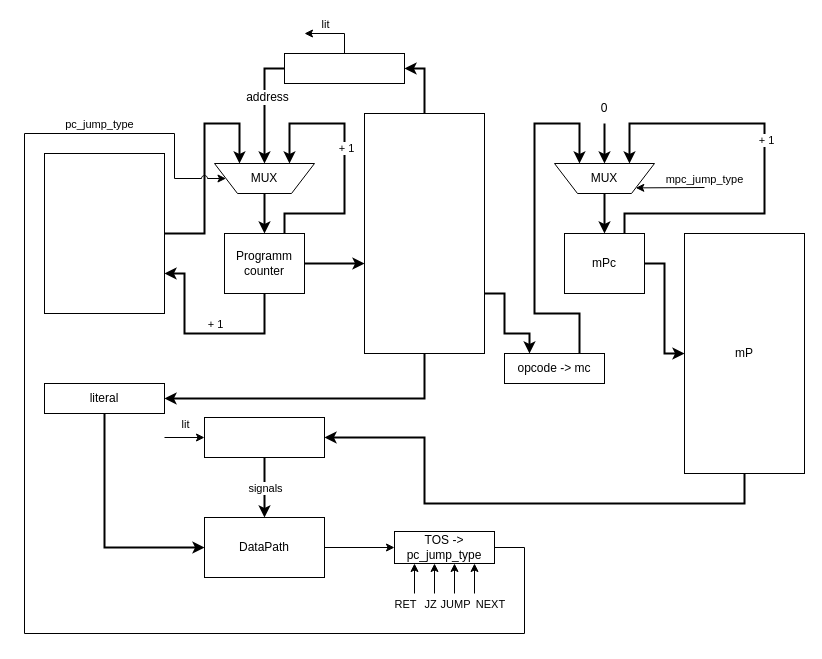
Image size: 822x659. Some labels were removed from this diagram. Each missing label, with the centre of its shape:
Commands memory: point 424,233
decoder: point 264,437
Instruction Decoder: point 344,68
Return stack: point 104,233
